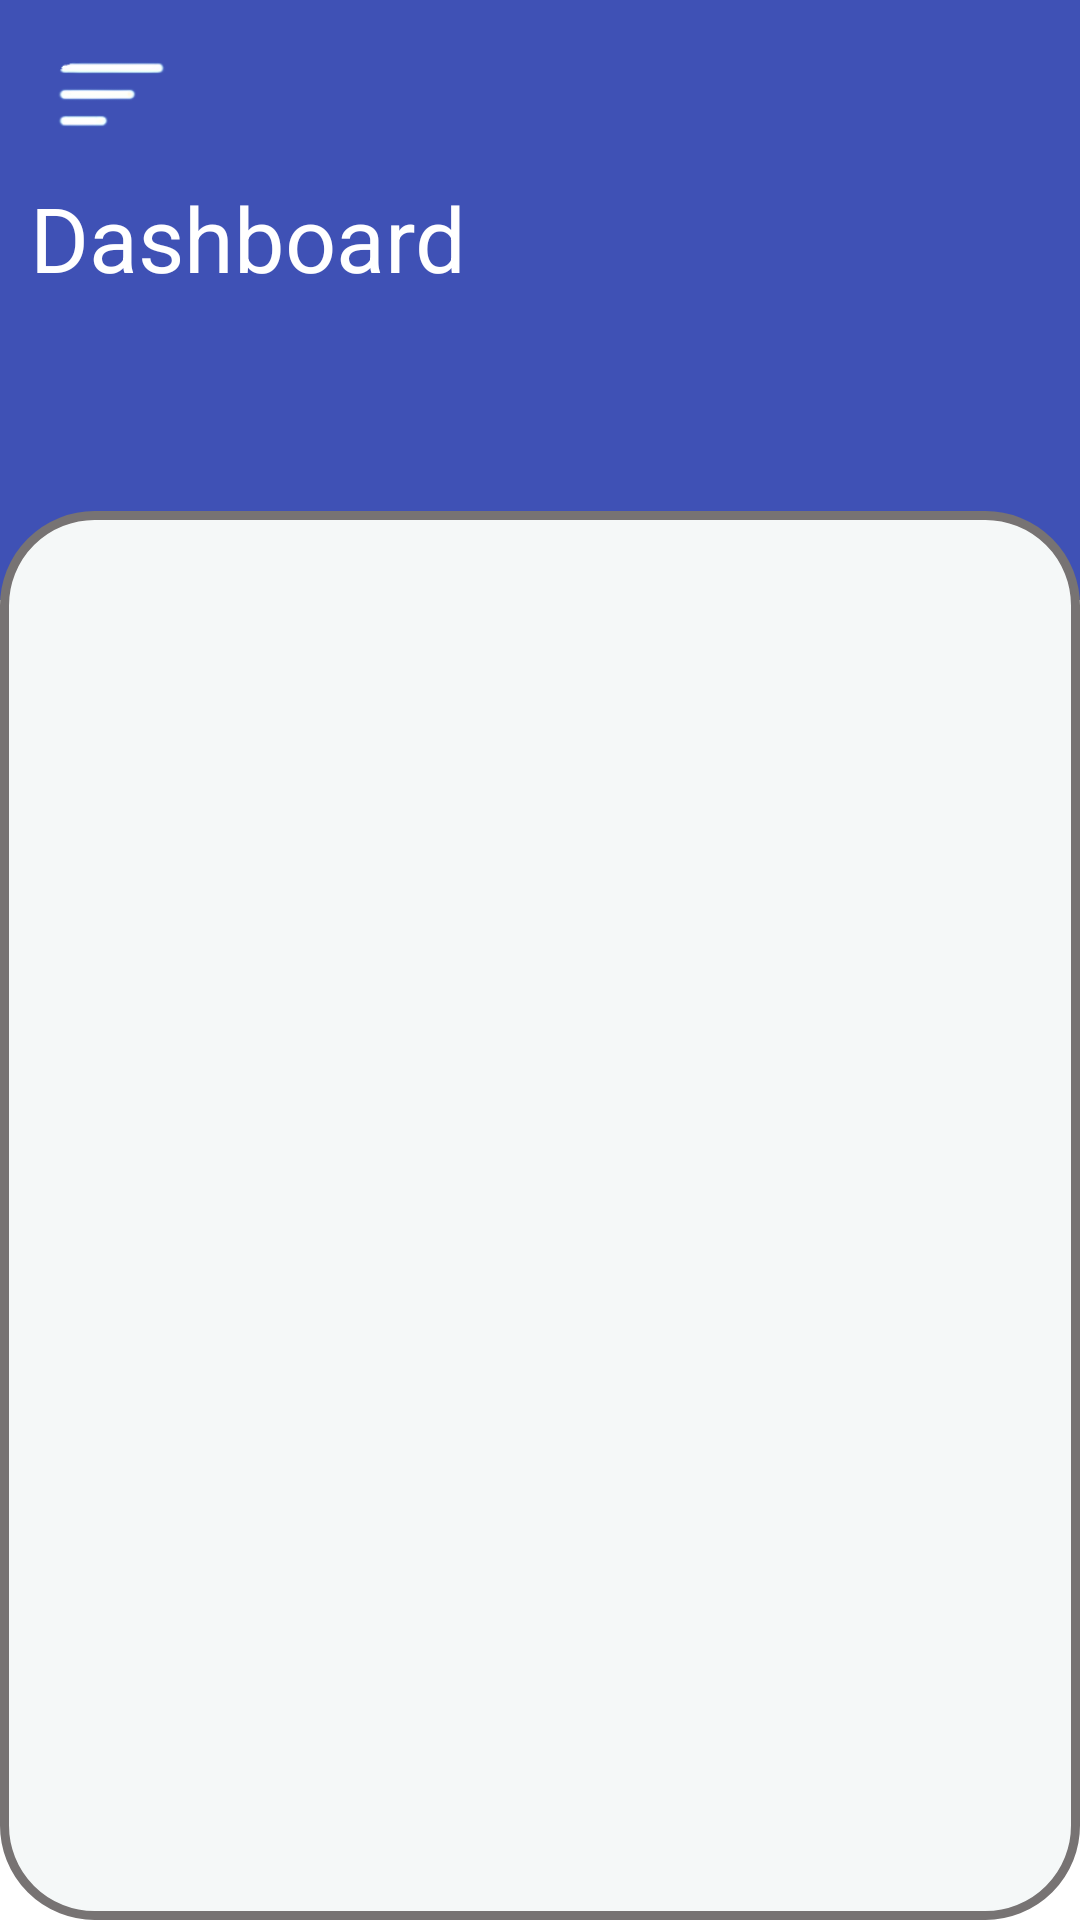

Icon bounding boxes for this 1080w x 1920h phone screenshot, format (x1, y1, x2, y2):
menu: (59, 63, 164, 126)
